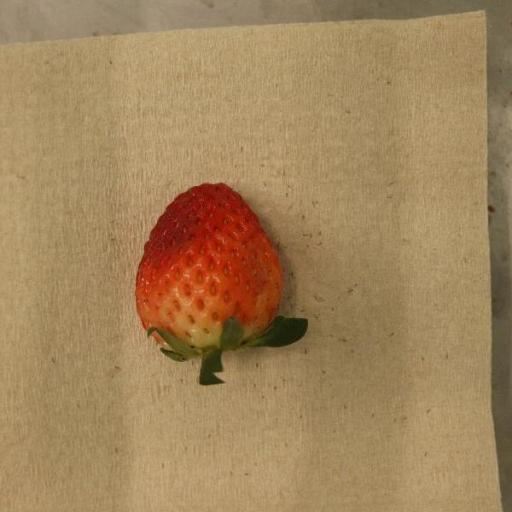Strawberry: (135, 183, 309, 387)
